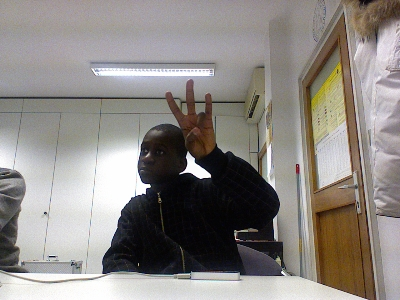观音: (163, 78, 216, 158)
